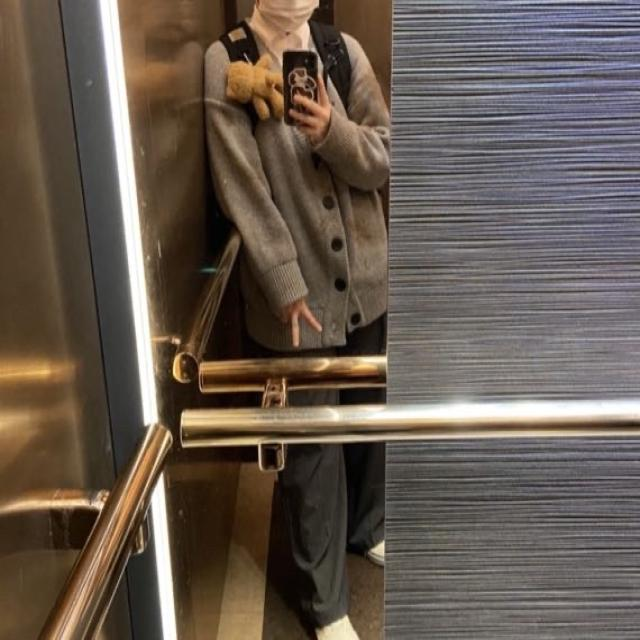cardigan: (204, 20, 385, 347)
slacks: (283, 342, 385, 626)
